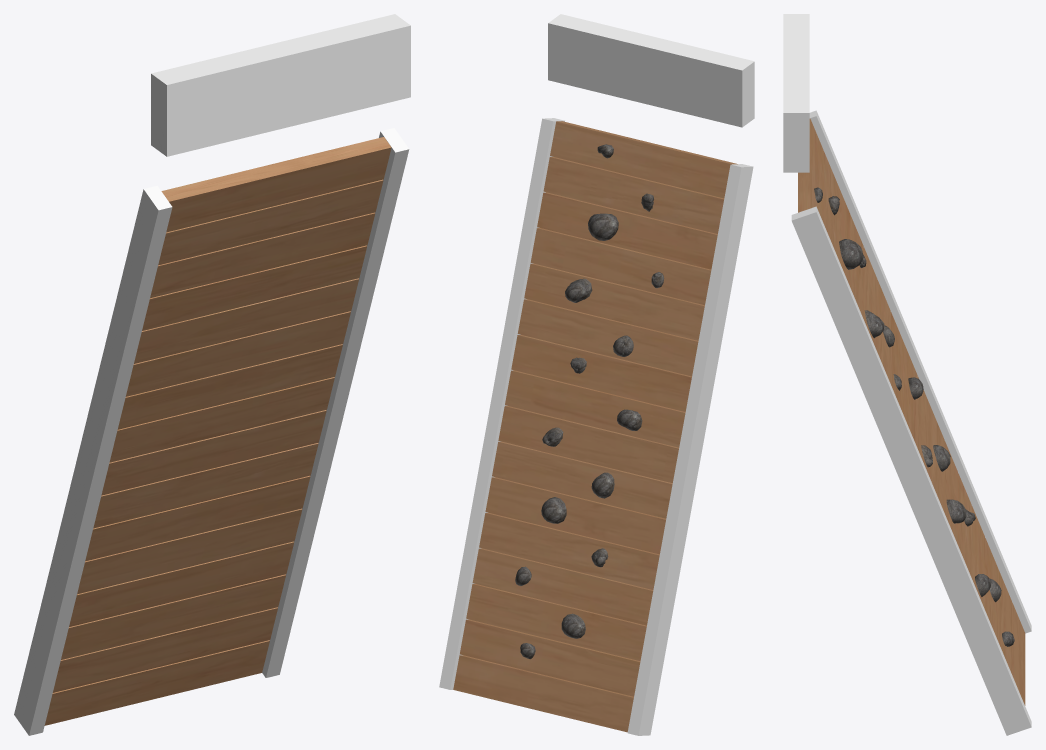
Rendered from P-RC-7.5dcc27e6.glb.
3 renders of one model, left to right at view 1: azimuth 30°, elevation 25°; view 2: azimuth 150°, elevation 25°; view 3: azimuth 270°, elevation 25°, orthographic. The views are drawn at different scales.
Visible parts, largest first — view 1: Cube199_2, Cube199_1, joint,0,8; view 2: Cube199_2, Cube199_1, joint,0,8, Cube199; view 3: Cube199_1, Cube199_2, joint,0,8, Cube199.
Part boxes in pixels (x1,y1,x2,y2): Cube199_2: (44, 137, 391, 725); Cube199_1: (14, 128, 409, 735); joint,0,8: (151, 14, 410, 156); Cube199_2: (453, 121, 737, 732); Cube199_1: (439, 118, 753, 735); joint,0,8: (548, 14, 754, 127); Cube199: (515, 144, 664, 659); Cube199_1: (791, 110, 1031, 735); Cube199_2: (798, 118, 1025, 705); joint,0,8: (783, 14, 809, 172); Cube199: (814, 187, 1014, 646).
Bounding box in the file's own units: 0.9144 × 2.61 × 0.9446.
Materials: 4 (2 with a texture image).
